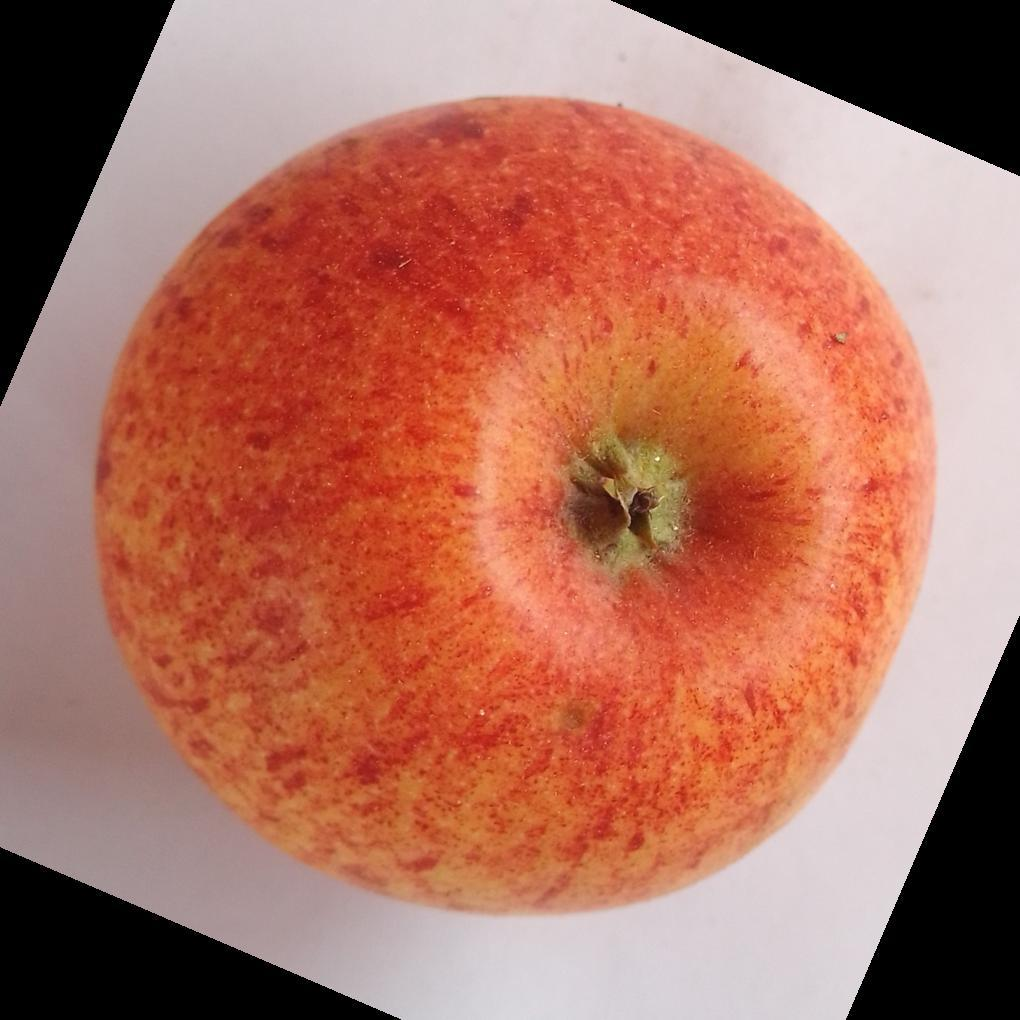FreshGuava: (92, 96, 938, 921)
